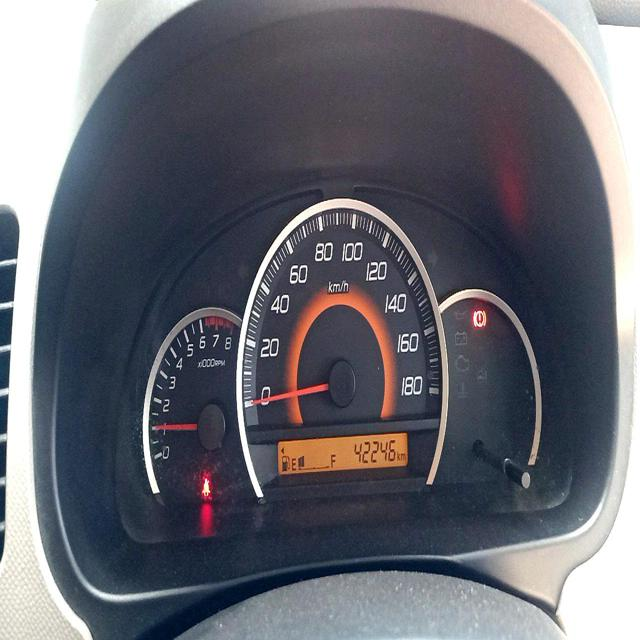odometer: (353, 437, 397, 466)
